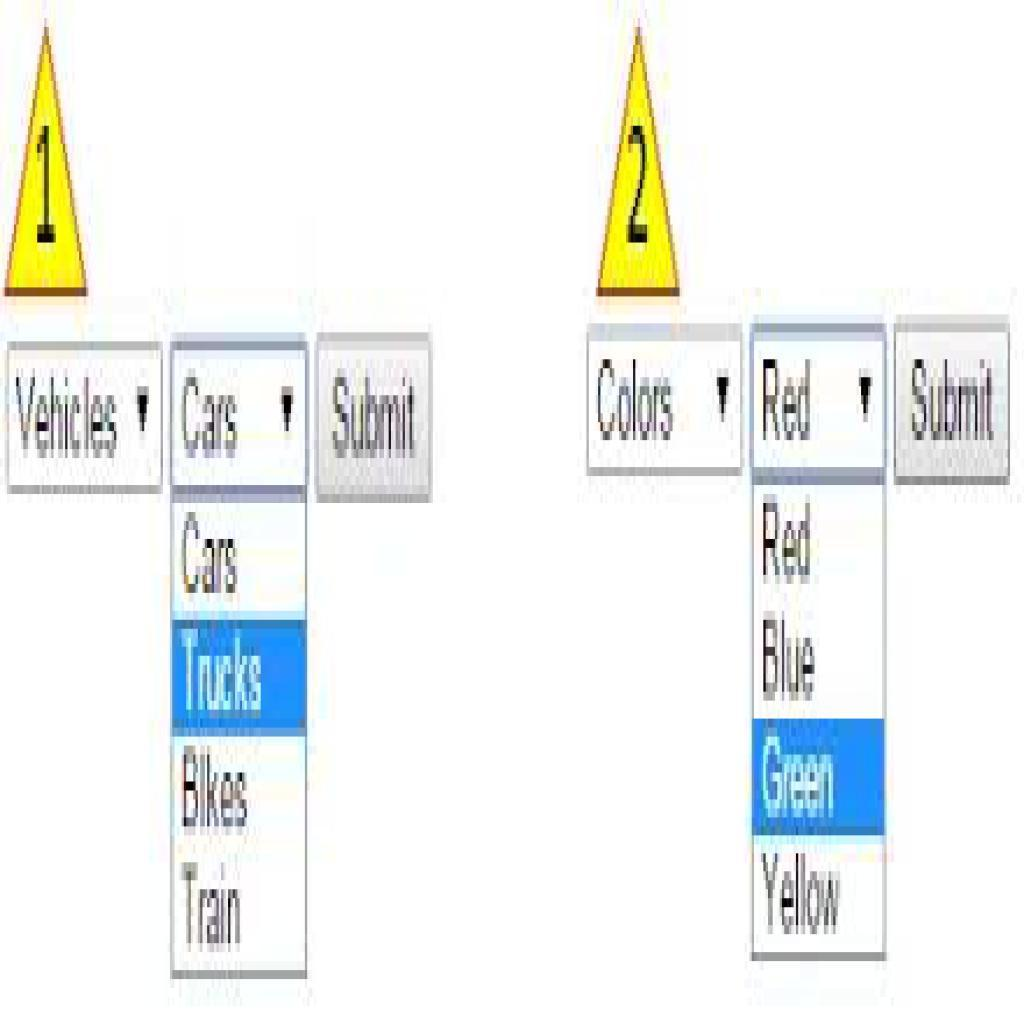button: (317, 331, 433, 504), (894, 315, 1012, 485), (172, 621, 309, 736), (751, 720, 886, 836)
dropdown: (586, 324, 746, 475), (9, 341, 163, 493), (169, 334, 310, 495), (753, 324, 888, 476)
label: (761, 844, 844, 938), (180, 745, 253, 835), (180, 858, 244, 953), (178, 510, 242, 602), (760, 611, 817, 703), (762, 497, 816, 584)
